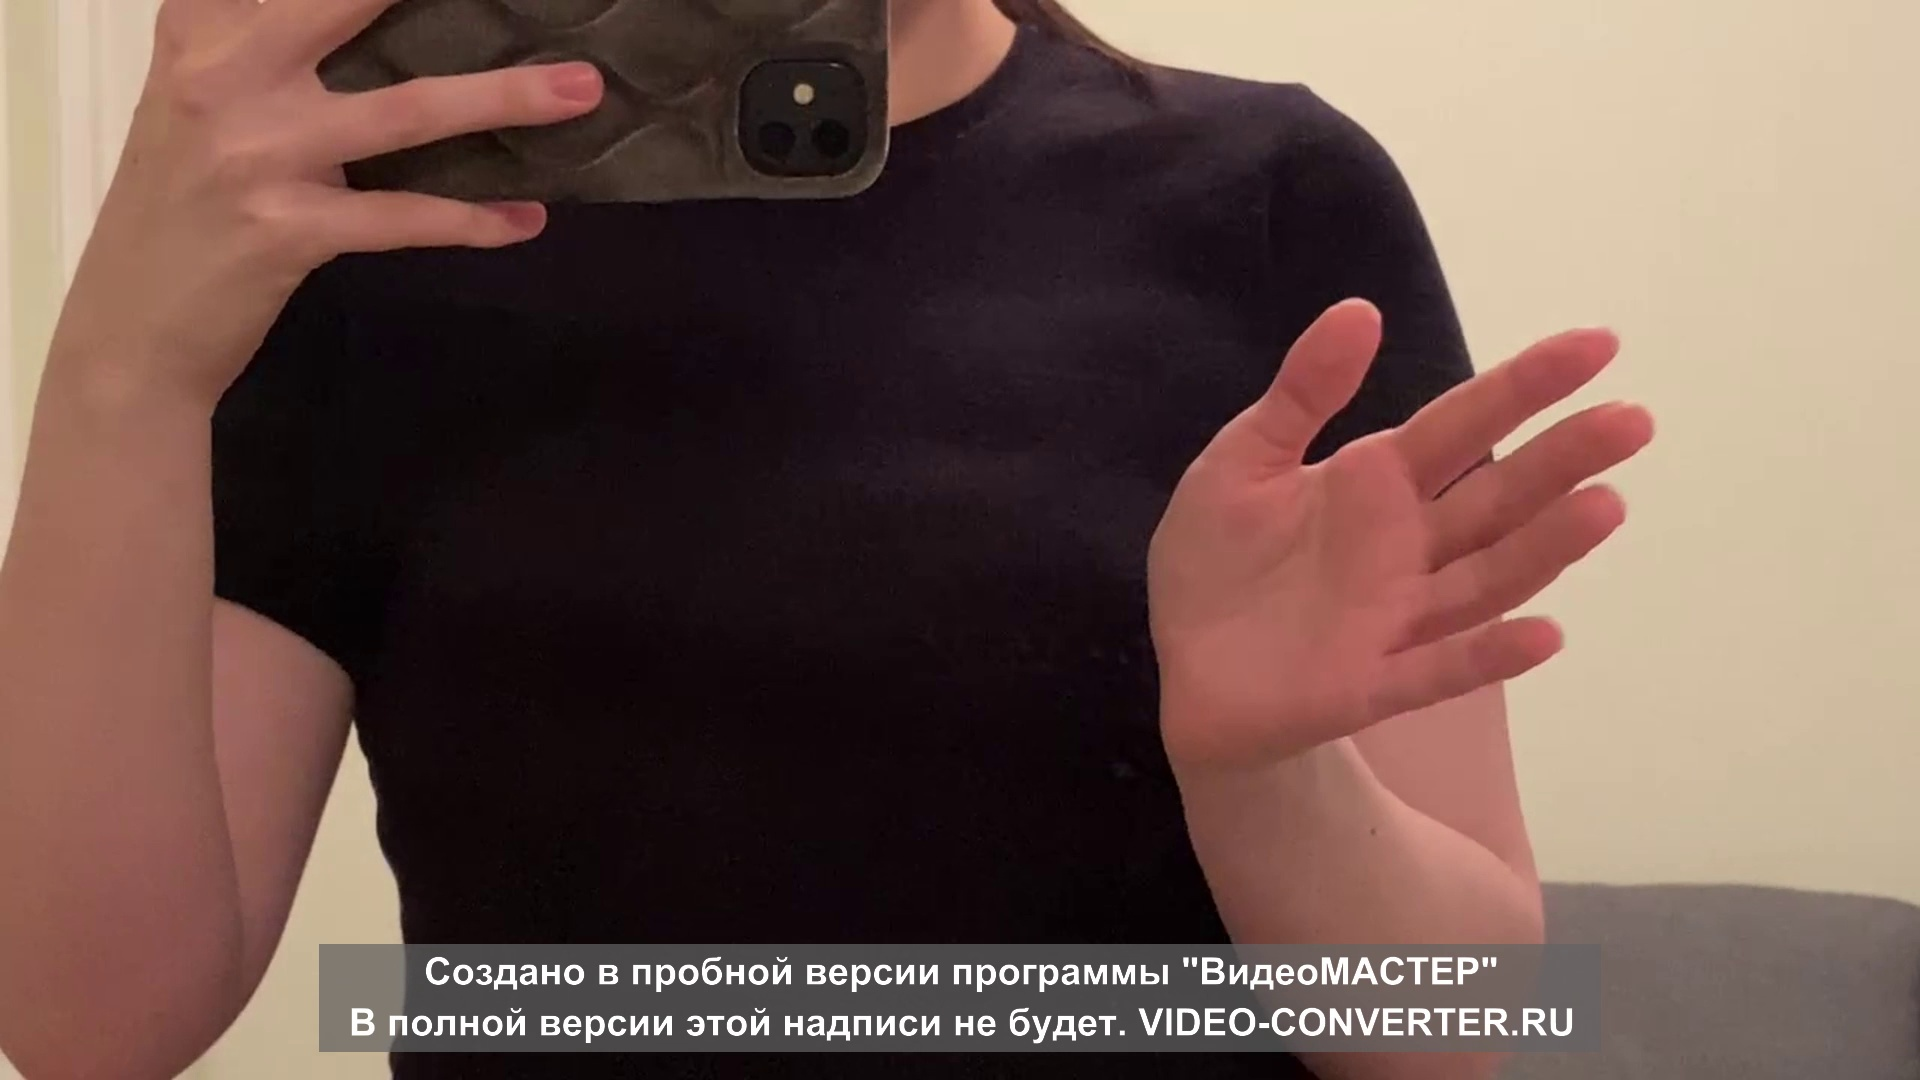Ладонь: (1146, 293, 1655, 753)
